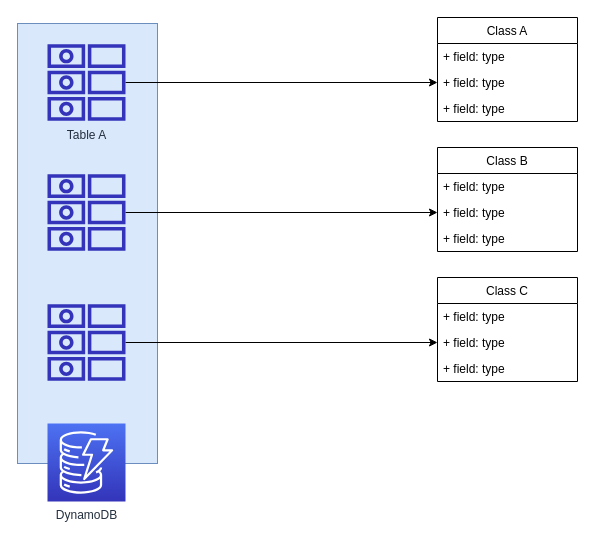
Image size: 595x540. Some labels were removed from this diagram. Here are the shapes that lost their labels. From the top down, the centre of each, then its label:
At point 86,212: "Table B".
At point 86,342: "Table C".
